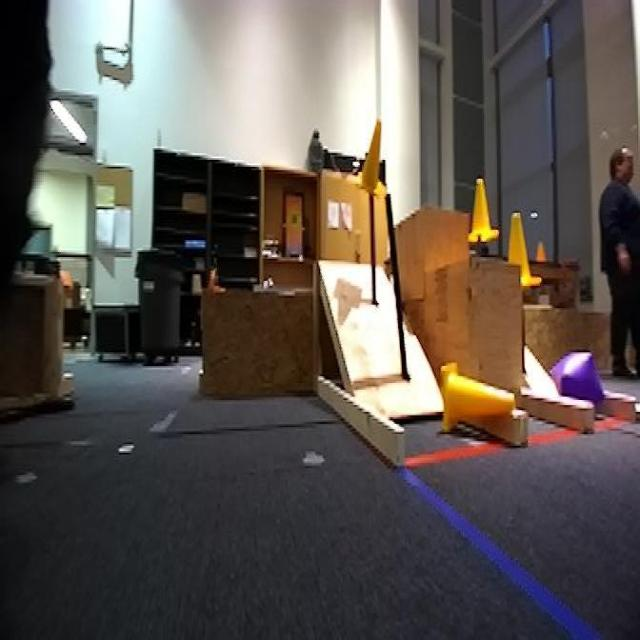frc_cone: (437, 362, 515, 432), (507, 208, 542, 292), (356, 116, 390, 196), (464, 174, 499, 245)
frc_cube: (552, 352, 596, 410)
